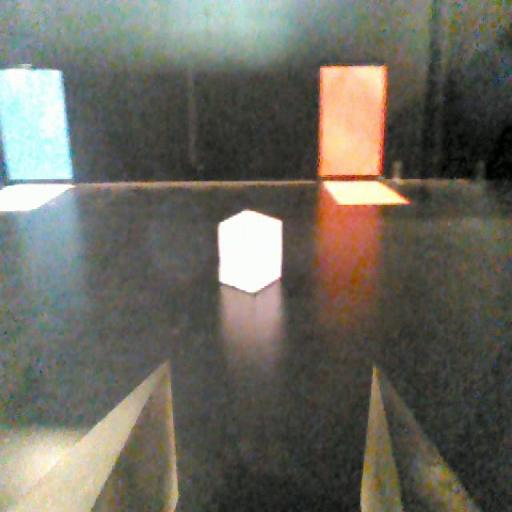cube: (212, 199, 288, 302)
